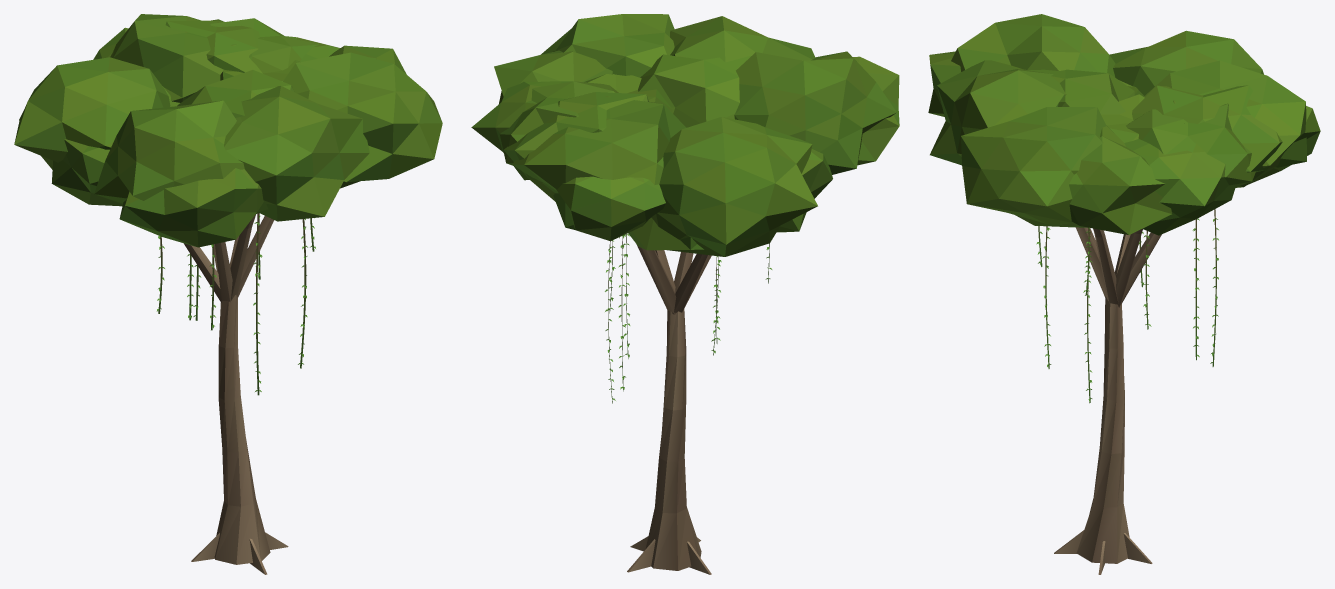
File: canopy_giant.glb
3 renders of one model, left to right at view 1: azimuth 30°, elevation 25°; view 2: azimuth 150°, elevation 25°; view 3: azimuth 270°, elevation 25°, orthographic. The views are drawn at different scales.
Visible parts, largest first — view 1: canopy_giant_leafy, canopy_giant_solid, canopy_giant_leaf; view 2: canopy_giant_leafy, canopy_giant_solid, canopy_giant_leaf; view 3: canopy_giant_leafy, canopy_giant_solid, canopy_giant_leaf.
Boxes of the visible parts, <box> form: canopy_giant_leafy: <box>14,14,442,247</box>; canopy_giant_solid: <box>184,214,288,574</box>; canopy_giant_leaf: <box>156,213,315,395</box>; canopy_giant_leafy: <box>471,14,899,256</box>; canopy_giant_solid: <box>627,244,711,574</box>; canopy_giant_leaf: <box>605,234,772,403</box>; canopy_giant_leafy: <box>928,14,1320,235</box>; canopy_giant_solid: <box>1054,227,1161,574</box>; canopy_giant_leaf: <box>1036,209,1218,403</box>.
Bounding box in the file's own units: 22.22 × 29.57 × 21.84.
